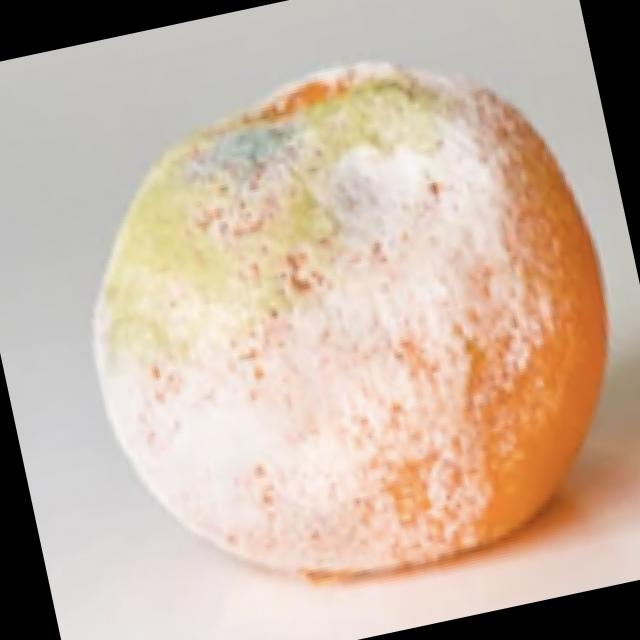rotten-orange: (46, 19, 640, 619)
